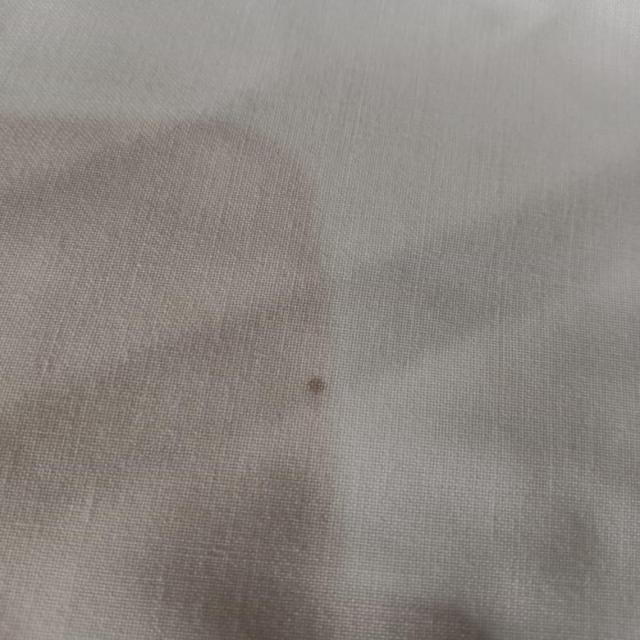stain: (290, 352, 348, 430)
